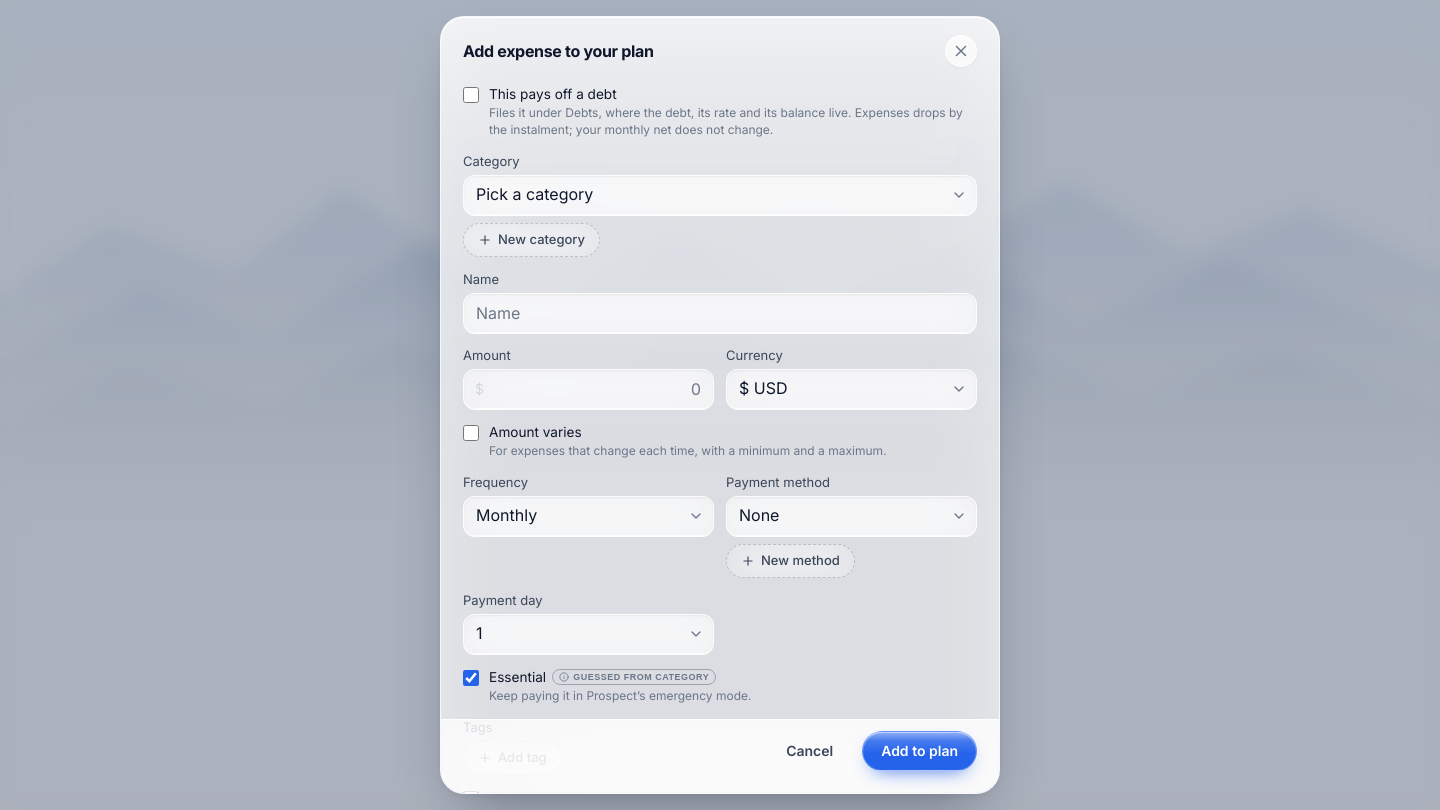
Test: RecurrentTransactionModal — essential › explains the guess from the tag without flipping the box
Select "Groceries" in the dropdown labelled "Category" at (720, 195), box x1=463 y1=175 x2=977 y2=215
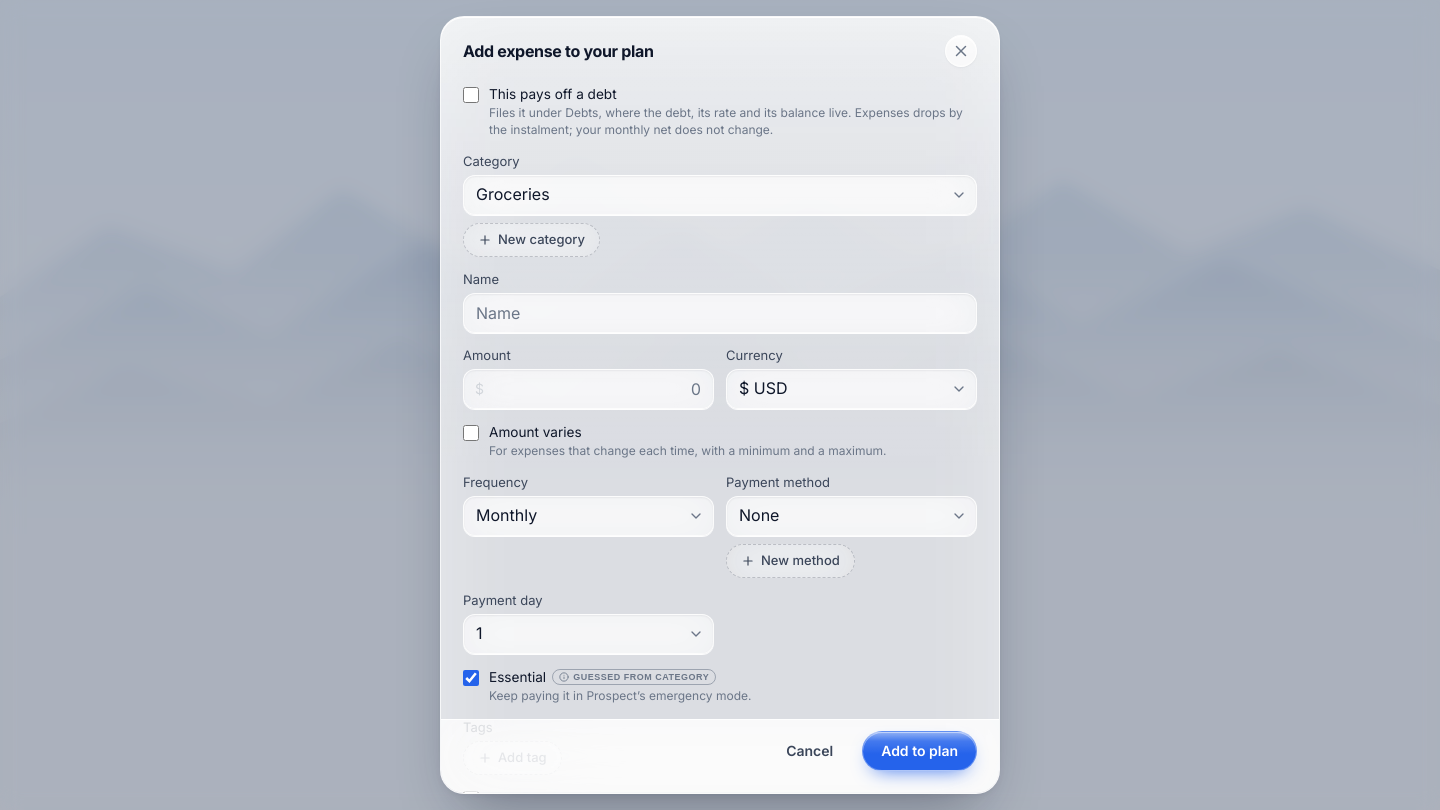
Type "Laptop" into the field labelled "Name" at (720, 313), box x1=463 y1=293 x2=977 y2=333
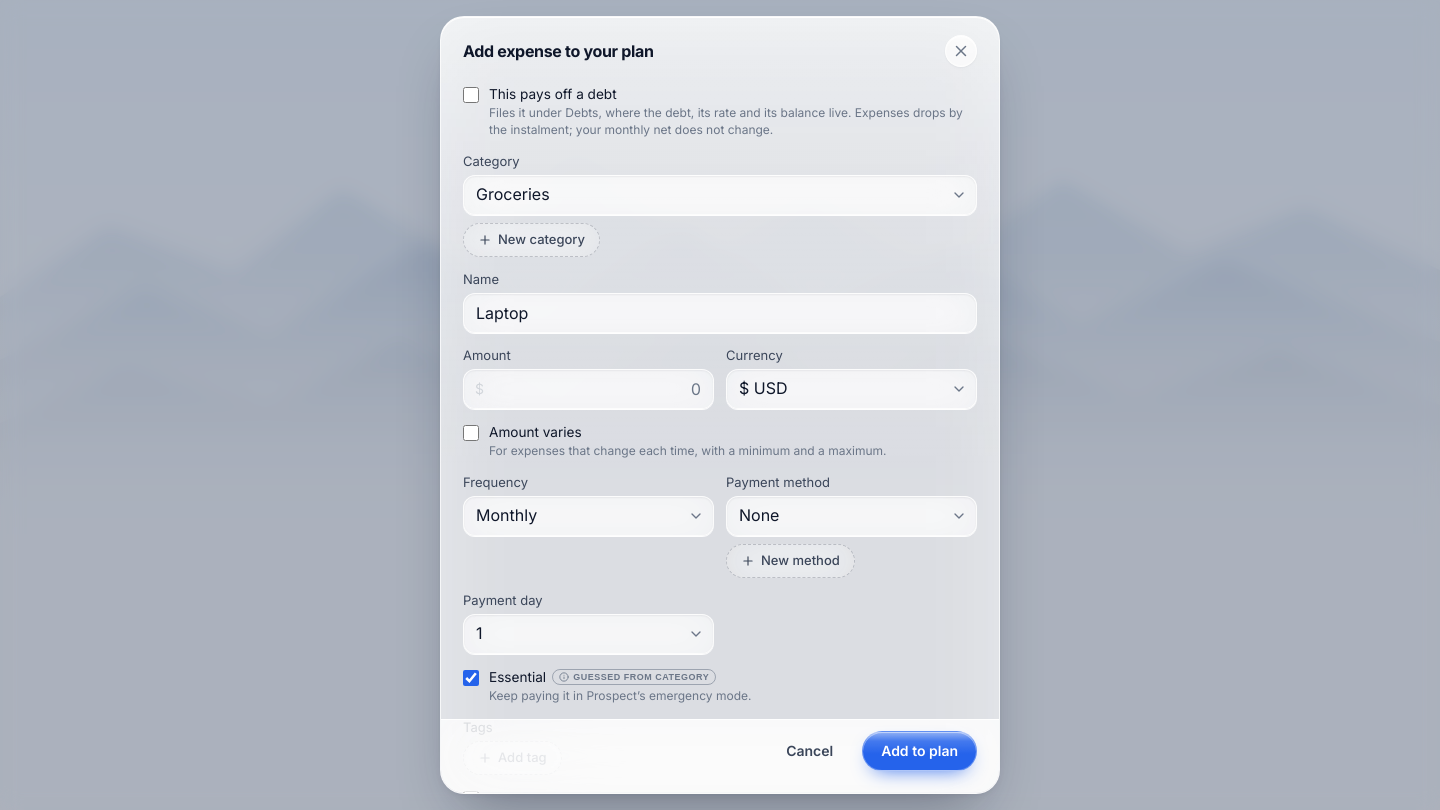
Type "2000" into the field labelled "Amount" at (588, 389), box x1=463 y1=369 x2=714 y2=409
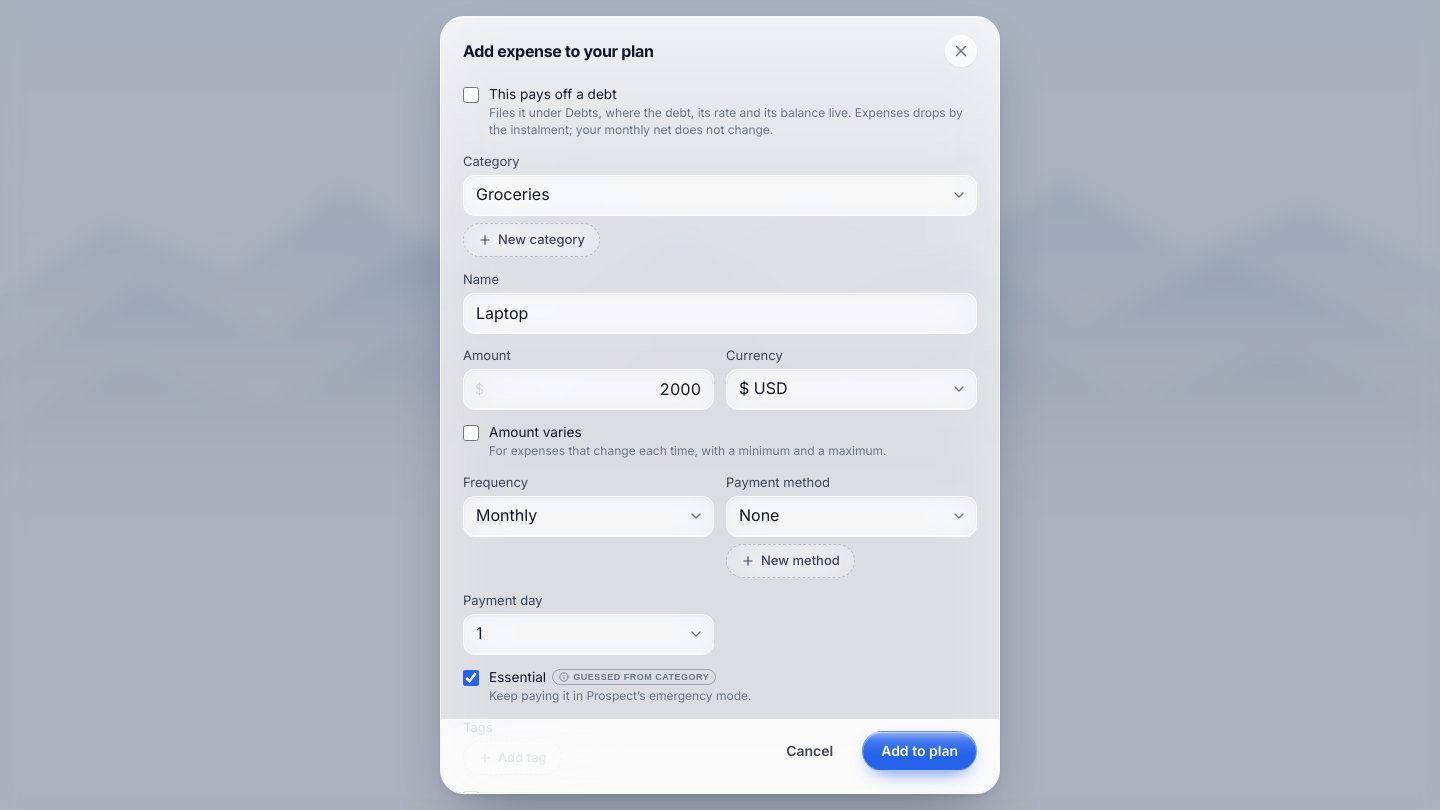
Click the button with aria-label "Guessed from category: why?" at (634, 677), box x1=552 y1=669 x2=716 y2=685
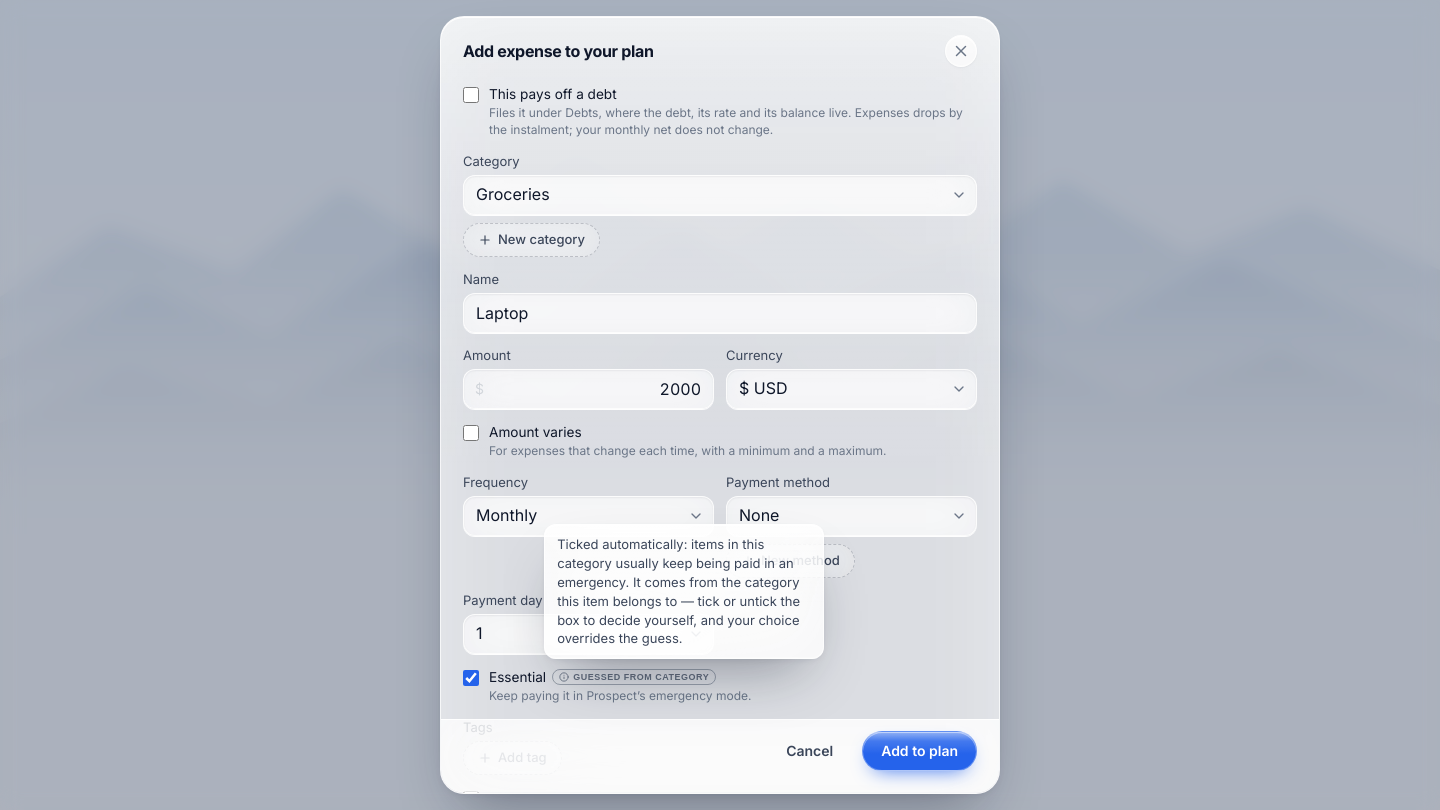
Expected: the checkbox labelled "Essential" is checked, x1=463 y1=670 x2=479 y2=686
Expected: the button with aria-label "Guessed from category: why?" is expanded, x1=552 y1=669 x2=716 y2=685
Expected: the tooltip shows "your choice overrides the guess", x1=557 y1=536 x2=800 y2=646
